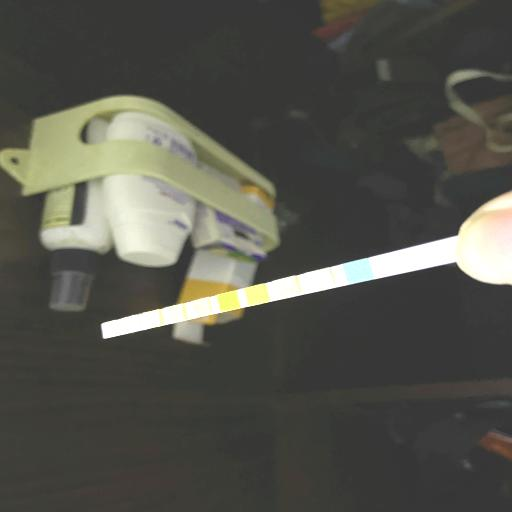Bilirubin: (310, 272, 328, 288)
Blood: (219, 294, 235, 310)
Glucose: (346, 262, 366, 280)
Ketone: (278, 280, 294, 296)
Leukocytes: (104, 323, 116, 336)
Nitrite: (124, 318, 138, 332)
Protein: (168, 306, 182, 320)
SpGravity: (247, 287, 264, 303)
Urobilinogen: (146, 312, 160, 326)
pH: (195, 300, 207, 316)
strip: (100, 238, 455, 339)
